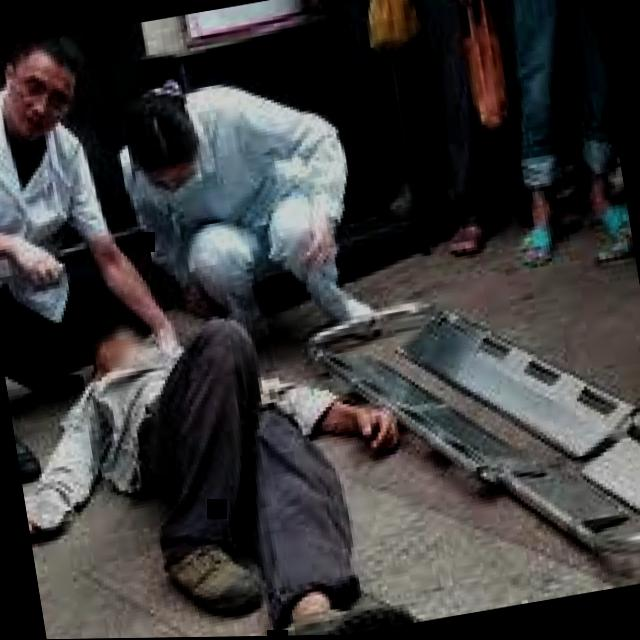Fall-Detected: (0, 237, 440, 640)
